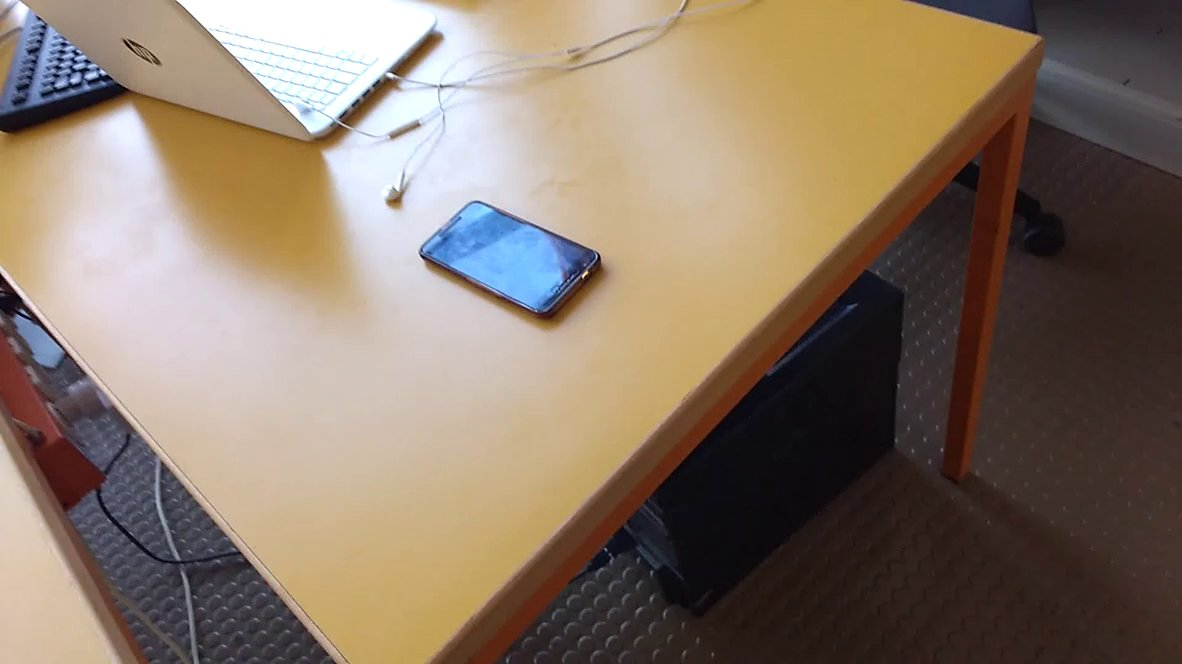laptop: (11, 1, 454, 157)
phone: (414, 194, 611, 330)
